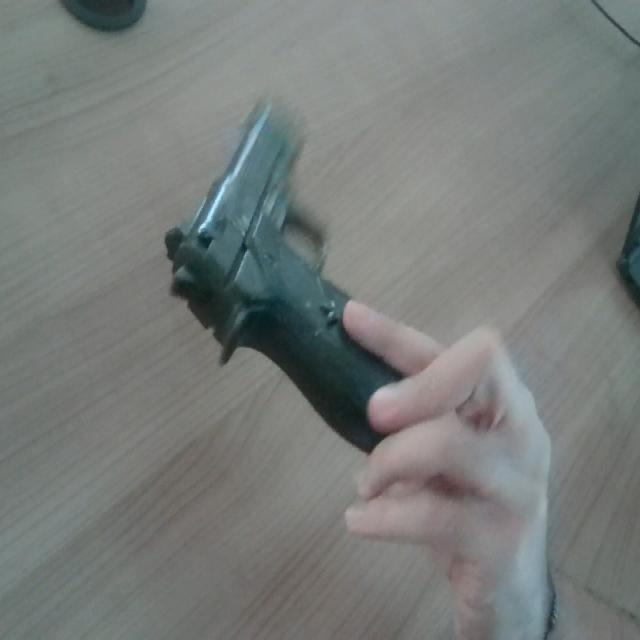handgun: (149, 38, 431, 511)
